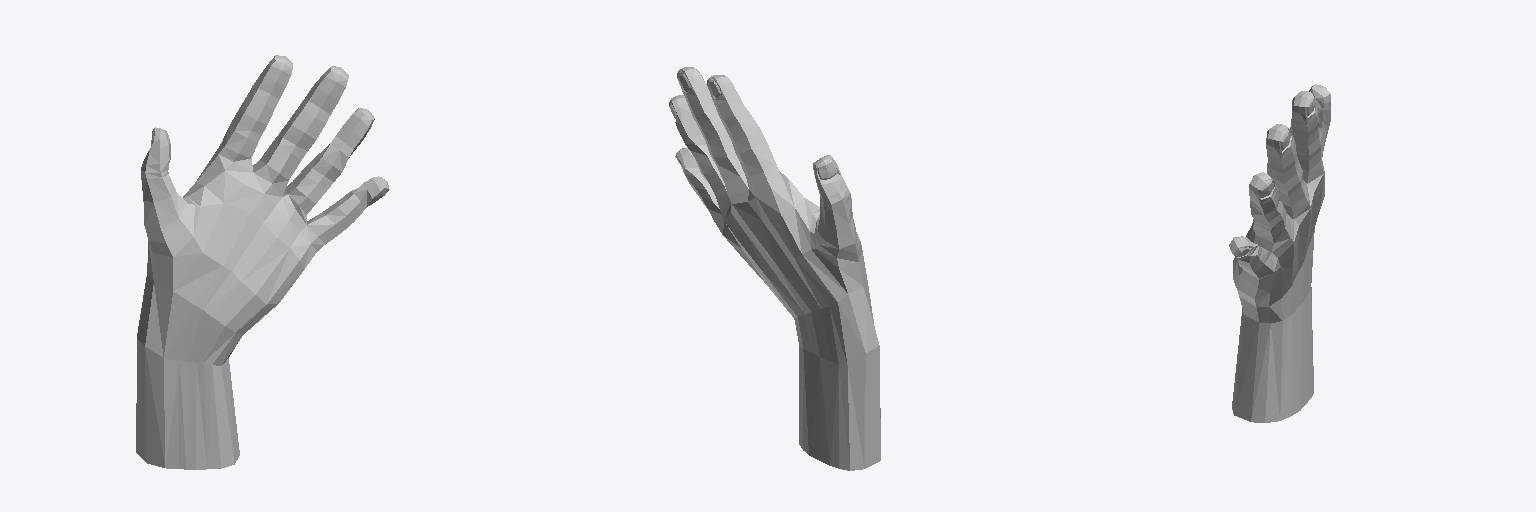
The model's file is handAnimated4_000146.obj.
3 renders of one model, left to right at view 1: azimuth 30°, elevation 25°; view 2: azimuth 150°, elevation 25°; view 3: azimuth 270°, elevation 25°, orthographic.
Parts seen in each view (by area): view 1: Cube.000_Cube.017_Detached_Detached; view 2: Cube.000_Cube.017_Detached_Detached; view 3: Cube.000_Cube.017_Detached_Detached.
Part boxes in pixels (left/top/right/bottom): Cube.000_Cube.017_Detached_Detached: left=136, top=55, right=389, bottom=469; Cube.000_Cube.017_Detached_Detached: left=669, top=67, right=880, bottom=470; Cube.000_Cube.017_Detached_Detached: left=1229, top=84, right=1330, bottom=422.
Bounding box in the file's own units: 0.7764 × 1.21 × 0.3096.